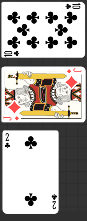10C: (64, 2, 82, 10)
2C: (4, 132, 12, 149)
AC: (51, 192, 58, 210)
